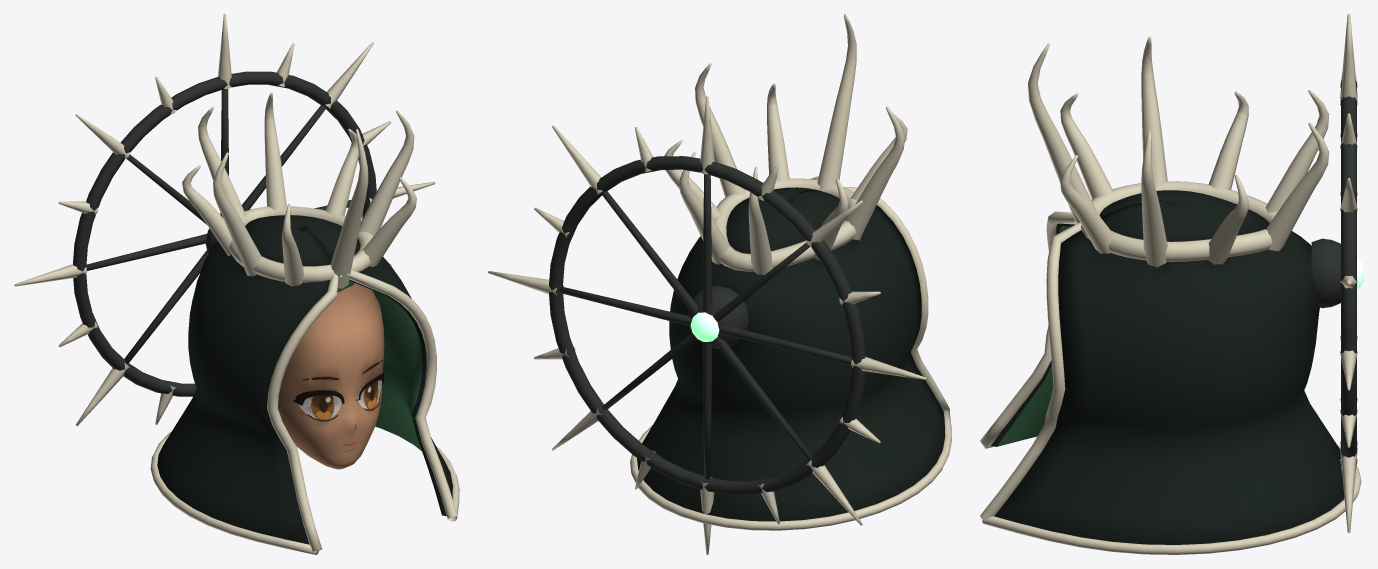
Rendered from h_lich_f.glb.
The picture shows the model from 3 angles, left to right: view 1: azimuth 30°, elevation 25°; view 2: azimuth 150°, elevation 25°; view 3: azimuth 270°, elevation 25°; orthographic projection. The views are drawn at different scales.
Parts seen in each view (by area): view 1: Hood, HeadMesh; view 2: Hood; view 3: Hood.
Boxes of the visible parts, box(x1,y1,x2,y2) form: Hood: box(14, 14, 459, 554); HeadMesh: box(278, 283, 384, 469); Hood: box(488, 14, 951, 554); Hood: box(980, 14, 1363, 554).
Bounding box in the file's own units: 0.62 × 0.62 × 0.4318.
